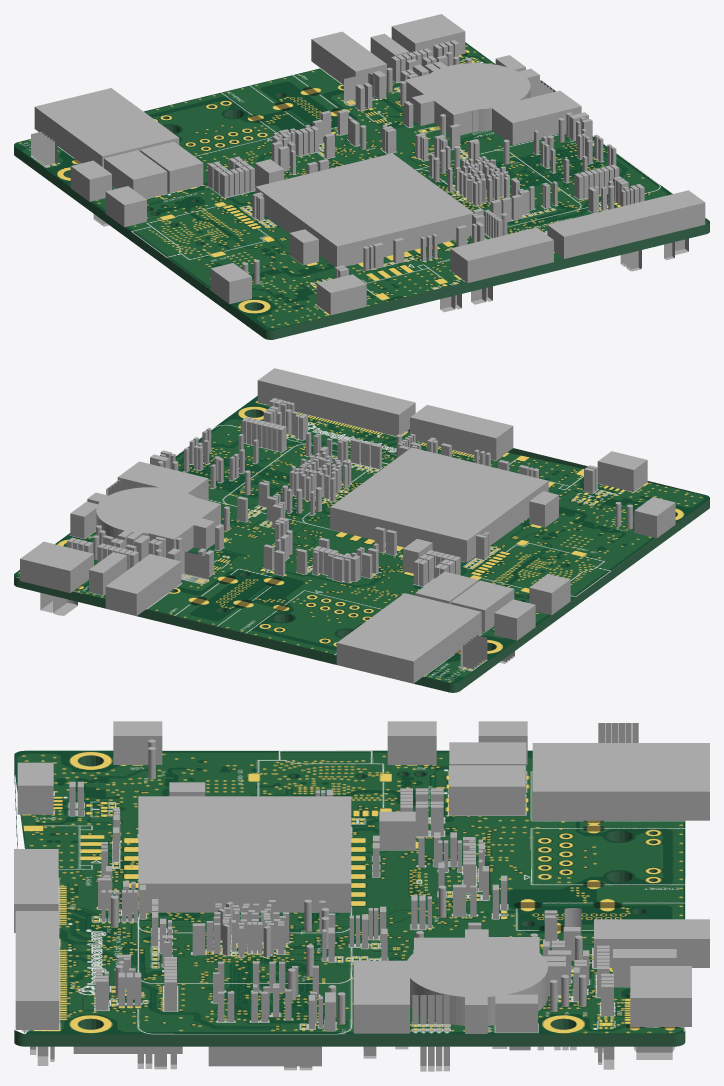
Rendered from without-wireless.glb.
3 views of the same model, one above another, from view 1: azimuth 30°, elevation 25°; view 2: azimuth 150°, elevation 25°; view 3: azimuth 270°, elevation 25° (orthographic). The views are drawn at different scales.
Visible parts, largest first — view 1: Box0, J21, J2, J10, J8, J17, J19, J13, L2, J14, L1, J18 (+7 smaller); view 2: Box0, J21, J2, J10, J8, J17, J13, J14, J19, J18, L2, SW1 (+8 smaller); view 3: Box0, J21, J2, J10, J8, J19, J13, L1, J14, J17, SW2, SW3 (+9 smaller).
Part boxes in pixels (box(x1,y1,x2,y2)): Box0: box(14, 42, 709, 339); J21: box(255, 153, 474, 266); J2: box(34, 88, 179, 167); J10: box(404, 63, 539, 135); J8: box(547, 190, 705, 258); J17: box(450, 227, 553, 282); J19: box(491, 90, 581, 145); J13: box(311, 31, 386, 85); L2: box(104, 150, 167, 198); J14: box(391, 14, 465, 56); L1: box(140, 141, 203, 193); J18: box(316, 274, 366, 315); Box0: box(14, 396, 709, 692); J21: box(330, 447, 548, 562); J2: box(336, 593, 481, 683); J10: box(87, 487, 220, 557); J8: box(257, 368, 415, 436); J17: box(410, 405, 513, 460); J13: box(105, 554, 181, 615); J14: box(20, 541, 93, 592); J19: box(117, 461, 208, 500); J18: box(597, 451, 647, 492); L2: box(451, 580, 514, 632); SW1: box(494, 599, 535, 640); Box0: box(14, 750, 685, 1046); J21: box(138, 796, 351, 912); J2: box(532, 743, 709, 820); J10: box(405, 929, 547, 1033); J8: box(15, 911, 59, 1029); J19: box(353, 960, 409, 1033); J13: box(594, 919, 709, 967); L1: box(449, 765, 525, 815); J14: box(630, 966, 691, 1026); J17: box(14, 849, 58, 932); SW2: box(387, 721, 436, 764); SW3: box(113, 721, 162, 764).
Size of the model in its own units: 80.11 by 9.22 by 82.97.
5 materials, 2 textured.
